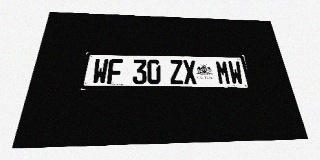0: (147, 59, 161, 84)
3: (132, 59, 147, 84)
F: (107, 59, 123, 84)
M: (215, 61, 231, 84)
W: (92, 58, 109, 84), (227, 61, 244, 84)
X: (182, 60, 197, 84)
Z: (169, 60, 184, 84)
